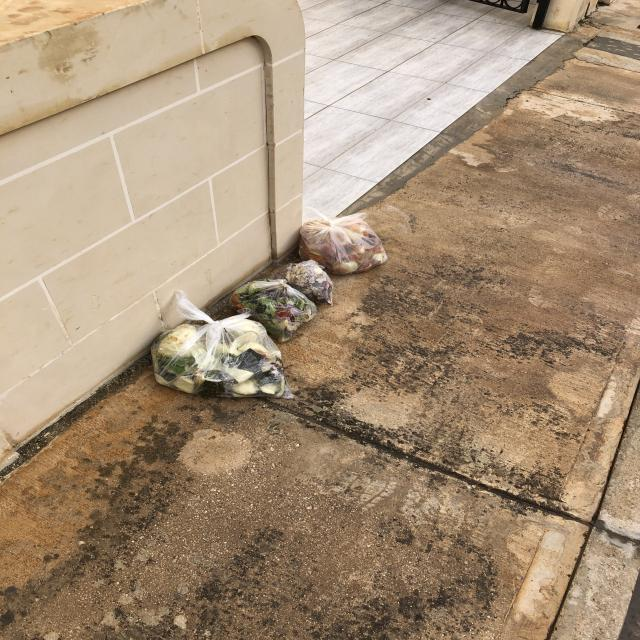Organic Waste -White Bag-: (148, 288, 299, 402), (301, 211, 392, 276), (227, 277, 318, 342), (274, 260, 338, 310)
